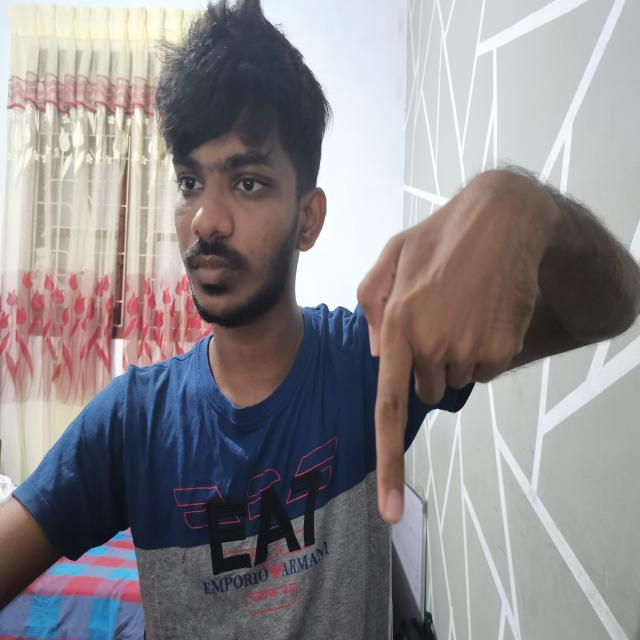Yes: (352, 145, 574, 542)
